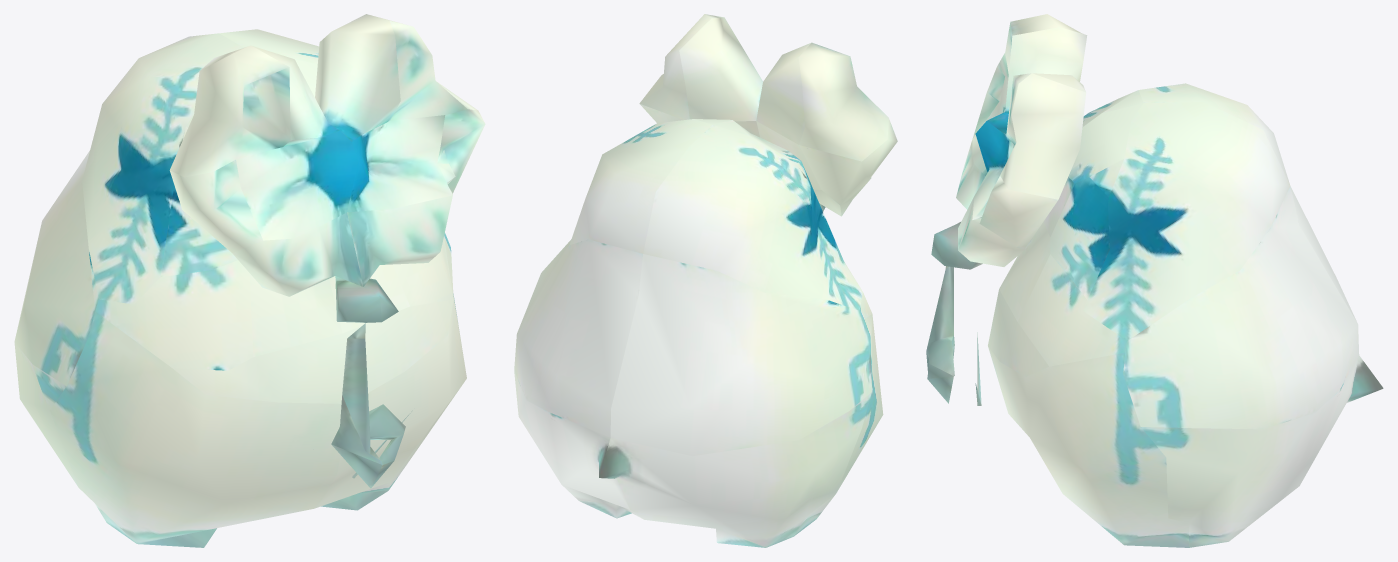
File: s1_gen_ice_key.glb
The picture shows the model from 3 angles, left to right: view 1: azimuth 30°, elevation 25°; view 2: azimuth 150°, elevation 25°; view 3: azimuth 270°, elevation 25°; orthographic projection. The views are drawn at different scales.
Size of the model in its own units: 1.49 by 1.9 by 1.75.
1 material, 1 textured.
